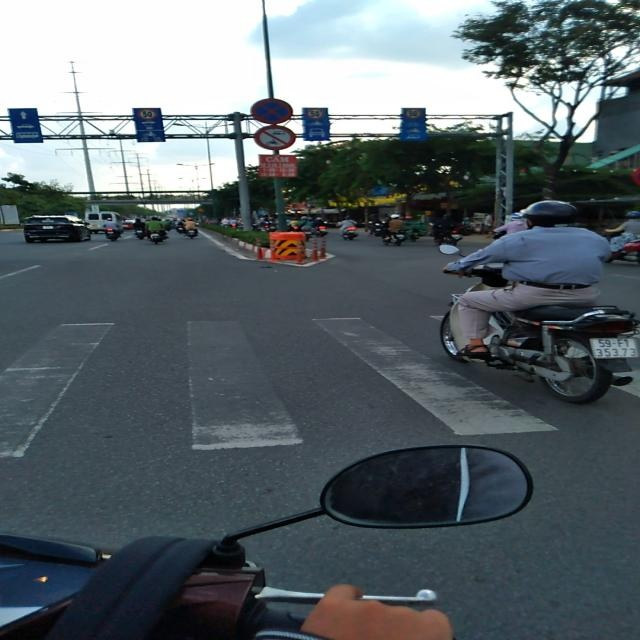bien_chi_dan: (250, 98, 293, 124), (138, 108, 156, 120), (306, 109, 324, 119), (405, 109, 422, 119)
